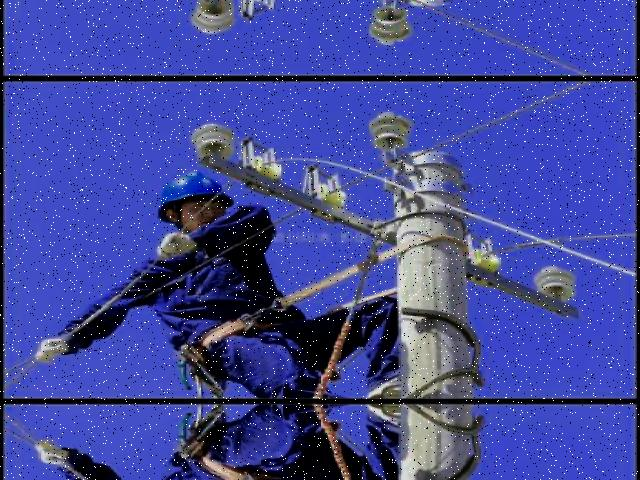Helmet: (151, 166, 232, 224)
